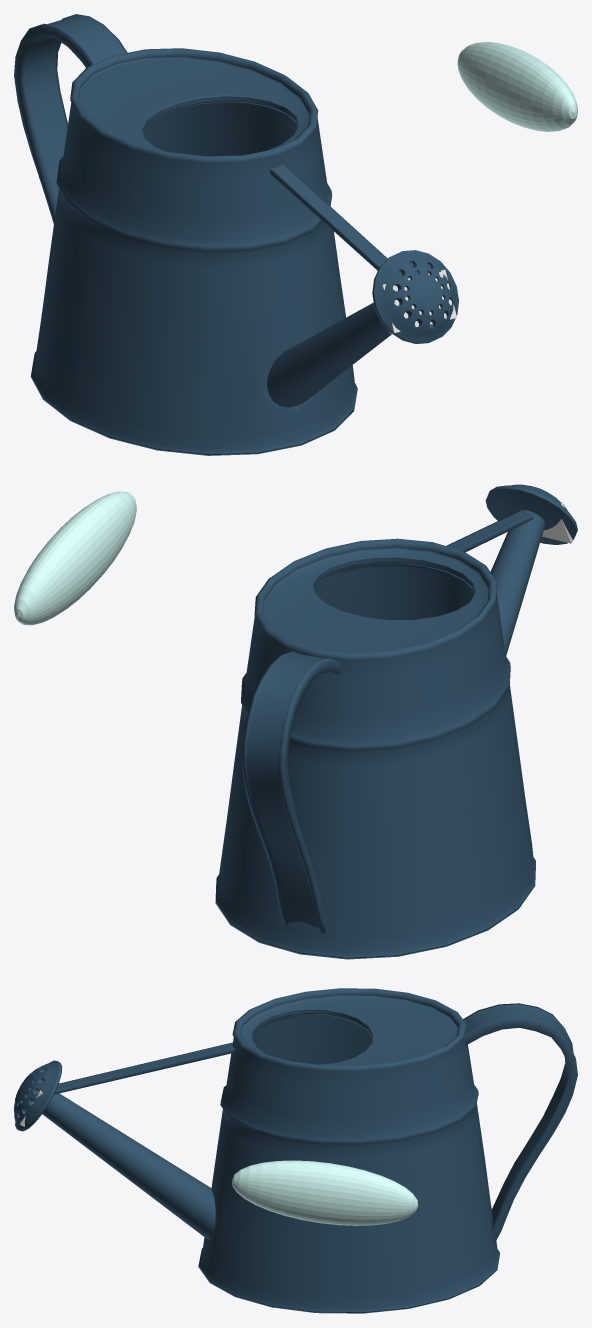
File: WateringCanModel.fbx
3 renders of one model, top to bottom at view 1: azimuth 30°, elevation 25°; view 2: azimuth 150°, elevation 25°; view 3: azimuth 270°, elevation 25°, orthographic. The views are drawn at different scales.
Visible parts, largest first — view 1: Model, waterdrop; view 2: Model, waterdrop; view 3: Model, waterdrop.
Boxes of the visible parts, box(x1,y1,x2,y2) form: Model: box(14, 14, 458, 455); waterdrop: box(457, 42, 577, 131); Model: box(215, 484, 577, 959); waterdrop: box(14, 491, 136, 625); Model: box(14, 988, 577, 1313); waterdrop: box(231, 1160, 418, 1225).
Size of the model in its own units: 22.19 by 13.31 by 28.22.
